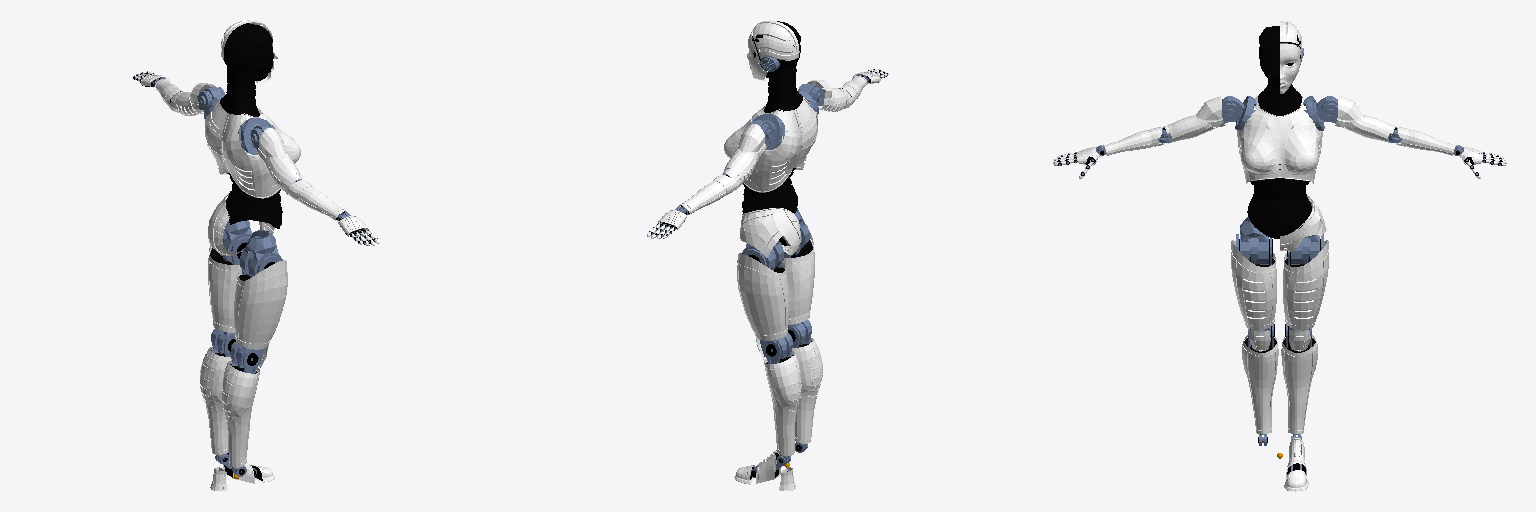
--- Facts derived from the render (not from the file) ---
3 views of the same robot in one strip: view 1: azimuth 30°, elevation 25°; view 2: azimuth 150°, elevation 25°; view 3: azimuth 270°, elevation 25° (orthographic).
Model humanMeshed with 89 links and 88 joints (88 continuous), rooted at base_link, posed every joint at zero.
Visible links, largest first — view 1: right_thigh_yaw, chest_yaw, right_knee_yaw, hip_yaw, head_yaw, left_thigh_yaw, left_knee_yaw, right_shoulder_yaw, lower_spine_yaw, neck_yaw, right_elbow_yaw, left_shoulder_yaw (+3 smaller); view 2: left_thigh_yaw, chest_yaw, left_knee_yaw, hip_yaw, head_yaw, right_knee_yaw, right_thigh_yaw, left_shoulder_yaw, neck_yaw, left_foot_yaw, lower_spine_yaw, left_elbow_yaw (+3 smaller); view 3: chest_yaw, right_thigh_yaw, left_thigh_yaw, lower_spine_yaw, right_knee_yaw, left_knee_yaw, head_yaw, hip_yaw, left_shoulder_yaw, right_shoulder_yaw, neck_yaw, left_foot_yaw (+6 smaller).
Boxes of the visible links, box(x1,y1,x2,y2) form: right_thigh_yaw: box(230, 251, 287, 367); chest_yaw: box(205, 101, 300, 198); right_knee_yaw: box(222, 342, 268, 476); hip_yaw: box(208, 193, 282, 276); head_yaw: box(221, 20, 277, 82); left_thigh_yaw: box(208, 234, 249, 353); left_knee_yaw: box(200, 328, 234, 463); right_shoulder_yaw: box(251, 125, 301, 196); lower_spine_yaw: box(226, 173, 282, 228); neck_yaw: box(220, 66, 259, 116); right_elbow_yaw: box(288, 179, 349, 221); left_shoulder_yaw: box(170, 83, 224, 115); left_thigh_yaw: box(737, 245, 792, 358); chest_yaw: box(724, 97, 817, 192); left_knee_yaw: box(756, 333, 801, 465); hip_yaw: box(740, 208, 809, 269); head_yaw: box(747, 20, 800, 80); right_knee_yaw: box(788, 320, 822, 452); right_thigh_yaw: box(782, 226, 814, 344); left_shoulder_yaw: box(722, 121, 772, 190); neck_yaw: box(764, 63, 802, 112); left_foot_yaw: box(734, 450, 795, 491); lower_spine_yaw: box(742, 168, 797, 213); left_elbow_yaw: box(676, 173, 736, 215); chest_yaw: box(1237, 95, 1322, 183); right_thigh_yaw: box(1231, 234, 1276, 342); left_thigh_yaw: box(1283, 234, 1328, 342); lower_spine_yaw: box(1247, 164, 1311, 238); right_knee_yaw: box(1242, 324, 1278, 445); left_knee_yaw: box(1281, 324, 1317, 438); head_yaw: box(1259, 21, 1303, 93); hip_yaw: box(1239, 195, 1326, 264); left_shoulder_yaw: box(1321, 96, 1400, 143); right_shoulder_yaw: box(1159, 96, 1238, 143); neck_yaw: box(1258, 80, 1301, 115); left_foot_yaw: box(1284, 436, 1308, 491).
Bounding box of the posed robot: 0.2863 × 1.57 × 1.73 m (x, y, z).
18 mesh visuals loaded from 19 distinct referenced files (18 Collada DAE); not drawn: 1 (file found but could not be loaded).

robot.urdf — humanMeshed:
<?xml version="1.0"?>
<robot name="humanMeshed">

  <link name="base_link">
    <visual>
      <geometry>
        <sphere radius="0.01"/>
      </geometry>
    </visual>
  </link>

<!--   HIP starts here  -->
  <link name="hip_roll"/>

  <joint name="hip_roll" type="continuous">
    <parent link="base_link" />
    <child link="hip_roll" />
    <origin xyz="0.05 0 0.90"/>
    <axis xyz="1.0 0 0"/>
  </joint>

  <link name="hip_pitch">
    
  </link>

  <joint name="hip_pitch" type="continuous">
    <parent link="hip_roll"/>
    <child link="hip_pitch"/>
    <origin xyz="0 0 0"/>
    <axis xyz="0 1.0 0"/>
  </joint>

  <link name="hip_yaw">
        <visual>
      <geometry>  
        <mesh filename="package://online_tempo/models/humanMeshed/meshes/pelvis.dae" scale="0.06 0.06 0.06"/>
     </geometry>
      <origin rpy="0 0 1.57075" xyz="0 0 -0.96"/>   
    </visual>
  </link>

  <joint name="hip_yaw" type="continuous">
    <parent link="hip_pitch"/>
    <child link="hip_yaw"/>
    <origin xyz="0 0 0"/>
    <axis xyz="0 0 1.0"/>
  </joint>

 <!--           HIP ENDS HERE        -->
 <!--      RIGHT THIGH STARTS HERE    -->
 <joint name="right_thigh_roll" type="continuous">
    <parent link="hip_yaw"/>
    <child link="right_thigh_roll"/>
    <origin xyz="0 -0.0875 -0.0875"/>
    <axis xyz="1.0 0 0"/>
 </joint>

 <link name="right_thigh_roll"/>

 <joint name="right_thigh_pitch" type="continuous">
    <parent link="right_thigh_roll"/>
    <child link="right_thigh_pitch"/>
    <origin xyz="0 0 0"/>
    <axis xyz="0 1.0 0"/>
 </joint>

 <link name="right_thigh_pitch"/>

 <joint name="right_thigh_yaw" type="continuous">
    <parent link="right_thigh_pitch"/>
    <child link="right_thigh_yaw"/>
    <origin xyz="0 0 0"/>
    <axis xyz="0 0 1.0"/>
 </joint>

<link name="right_thigh_yaw">
  <visual>
    <geometry>
      <mesh filename="package://online_tempo/models/humanMeshed/meshes/rightThigh.dae" scale="0.06 0.06 0.06"/>
    </geometry>      
    <origin rpy="0 0 1.57075" xyz="0 0.0875 -0.8725"/>  
  </visual>
</link>
<!--       RIGHT THIGH ENDS HERE       -->
<!--       RIGHT KNEE STARTS HERE      -->
<joint name="right_knee_roll" type="continuous">
  <parent link="right_thigh_yaw"/>
  <child link="right_knee_roll"/>
  <origin xyz="-0.05 0.02 -0.3375"/>
  <axis xyz="1.0 0 0"/>
</joint>

<link name="right_knee_roll"/>

<joint name="right_knee_pitch" type="continuous">
  <parent link="right_knee_roll"/>
  <child link="right_knee_pitch"/>
  <origin xyz="0 0 0"/>
  <axis xyz="0 1.0 0"/>
</joint>

<link name="right_knee_pitch"/>

<joint name="right_knee_yaw" type="continuous">
  <parent link="right_knee_pitch"/>
  <child link="right_knee_yaw"/>
  <origin xyz="0 0 0"/>
  <axis xyz="0 0 1.0"/>
</joint>

<link name="right_knee_yaw">
  <visual>
    <geometry>
      <mesh filename="package://online_tempo/models/humanMeshed/meshes/rightShin.dae" scale="0.06 0.06 0.06"/>
    </geometry>      
    <origin rpy="0 0 1.57075" xyz="0.05 0.0675 -0.53"/>    
  </visual>
</link>
<!--         RIGHT KNEE ENDS HERE   -->
<!--         RIGHT FOOT STARTS HERE -->
<joint name="right_foot_roll" type="continuous">
  <parent link="right_knee_yaw"/>
  <child link="right_foot_roll"/>
  <origin xyz="-0.0225 0.0125 -0.425"/>
  <axis xyz="1.0 0 0"/>
</joint> 

<link name="right_foot_roll"/>

<joint name="right_foot_pitch" type="continuous">
  <parent link="right_foot_roll"/>
  <child link="right_foot_pitch"/>
  <origin xyz="0 0 0"/>
  <axis xyz="0 1.0 0"/>
</joint> 

<link name="right_foot_pitch"/>

<joint name="right_foot_yaw" type="continuous">
  <parent link="right_foot_pitch"/>
  <child link="right_foot_yaw"/>
  <origin xyz="0 0 0"/>
  <axis xyz="0 0 1.0"/>
</joint> 

<link name="right_foot_yaw">
  <visual>
    <geometry>
      <mesh filename="package://online_tempo/models/humanMeshed/meshes/rightFoot.dae" scale="0.06 0.06 0.06"/>
    </geometry>
    <origin rpy="0 0 1.57075" xyz="0.07375 0.055 -0.1075"/>    
   </visual>
 </link>

<!--   RIGHT FOOT ENDS HERE   -->
<joint name="right_toe_roll" type="continuous">
  <parent link="right_foot_yaw"/>
  <child link="right_toe_roll"/>
  <origin xyz="0.11 -0.0025 -0.07"/>
  <axis xyz="1.0 0 0"/>
</joint>

<link name="right_toe_roll"/>

<joint name="right_toe_pitch" type="continuous">
  <parent link="right_toe_roll"/>
  <child link="right_toe_pitch"/>
  <origin xyz="0 0 0"/>
  <axis xyz="0 1.0 0"/>
</joint>

<link name="right_toe_pitch"/>

<joint name="right_toe_yaw" type="continuous">
  <parent link="right_toe_pitch"/>
  <child link="right_toe_yaw"/>
  <origin xyz="0 0 0"/>
  <axis xyz="0 0 1.0"/>
</joint>

<link name="right_toe_yaw"/>


<!--   LEFT THIGH STARTS HERE -->
 <joint name="left_thigh_roll" type="continuous">
    <parent link="hip_yaw"/>
    <child link="left_thigh_roll"/>
    <origin xyz="0 0.0875 -0.0875"/>
    <axis xyz="1.0 0 0"/>
 </joint>

 <link name="left_thigh_roll"/>

 <joint name="left_thigh_pitch" type="continuous">
    <parent link="left_thigh_roll"/>
    <child link="left_thigh_pitch"/>
    <origin xyz="0 0 0"/>
    <axis xyz="0 1.0 0"/>
 </joint>

 <link name="left_thigh_pitch"/>

 <joint name="left_thigh_yaw" type="continuous">
    <parent link="left_thigh_pitch"/>
    <child link="left_thigh_yaw"/>
    <origin xyz="0 0 0"/>
    <axis xyz="0 0 1.0"/>
 </joint>

<link name="left_thigh_yaw">
  <visual>
    <geometry>
      <mesh filename="package://online_tempo/models/humanMeshed/meshes/leftThigh.dae" scale="0.06 0.06 0.06"/>
    </geometry>      
    <origin rpy="0 0 1.57075" xyz="0 -0.0875 -0.8725"/>    
  </visual>
</link>
<!--     LEFT THIGH ENDS HERE -->
<!--       LEFT KNEE STARTS HERE      -->
<joint name="left_knee_roll" type="continuous">
  <parent link="left_thigh_yaw"/>
  <child link="left_knee_roll"/>
  <origin xyz="-0.05 -0.02 -0.3375"/>
  <axis xyz="1.0 0 0"/>
</joint>

<link name="left_knee_roll"/>

<joint name="left_knee_pitch" type="continuous">
  <parent link="left_knee_roll"/>
  <child link="left_knee_pitch"/>
  <origin xyz="0 0 0"/>
  <axis xyz="0 1.0 0"/>
</joint>

<link name="left_knee_pitch"/>

<joint name="left_knee_yaw" type="continuous">
  <parent link="left_knee_pitch"/>
  <child link="left_knee_yaw"/>
  <origin xyz="0 0 0"/>
  <axis xyz="0 0 1.0"/>
</joint>

<link name="left_knee_yaw">
  <visual>
    <geometry>
      <mesh filename="package://online_tempo/models/humanMeshed/meshes/leftShin.dae" scale="0.06 0.06 0.06"/>
    </geometry>      
    <origin rpy="0 0 1.57075" xyz="0.05 -0.0675 -0.53"/>   
  </visual>
</link>
<!--         left KNEE ENDS HERE   -->
<!--         left FOOT STARTS HERE -->
<joint name="left_foot_roll" type="continuous">
  <parent link="left_knee_yaw"/>
  <child link="left_foot_roll"/>
  <origin xyz="-0.0225 -0.0125 -0.425"/>
  <axis xyz="1.0 0 0"/>
</joint> 

<link name="left_foot_roll"/>

<joint name="left_foot_pitch" type="continuous">
  <parent link="left_foot_roll"/>
  <child link="left_foot_pitch"/>
  <origin xyz="0 0 0"/>
  <axis xyz="0 1.0 0"/>
</joint> 

<link name="left_foot_pitch"/>

<joint name="left_foot_yaw" type="continuous">
  <parent link="left_foot_pitch"/>
  <child link="left_foot_yaw"/>
  <origin xyz="0 0 0"/>
  <axis xyz="0 0 1.0"/>
</joint> 

<link name="left_foot_yaw">
  <visual>
    <geometry>
      <mesh filename="package://online_tempo/models/humanMeshed/meshes/leftFoot.dae" scale="0.06 0.06 0.06"/>
    </geometry>
    <origin rpy="0 0 1.57075" xyz="0.07375 -0.055 -0.1075"/>    
   </visual>
</link>
<!--   left FOOT ENDS HERE   -->

<joint name="left_toe_roll" type="continuous">
  <parent link="left_foot_yaw"/>
  <child link="left_toe_roll"/>
  <origin xyz="0.11 0.0025 -0.07"/>
  <axis xyz="1.0 0 0"/>
</joint>

<link name="left_toe_roll"/>

<joint name="left_toe_pitch" type="continuous">
  <parent link="left_toe_roll"/>
  <child link="left_toe_pitch"/>
  <origin xyz="0 0 0"/>
  <axis xyz="0 1.0 0"/>
</joint>

<link name="left_toe_pitch"/>

<joint name="left_toe_yaw" type="continuous">
  <parent link="left_toe_pitch"/>
  <child link="left_toe_yaw"/>
  <origin xyz="0 0 0"/>
  <axis xyz="0 0 1.0"/>
</joint>

<link name="left_toe_yaw"/>



<!--   lower_spine STARTS HERE   -->
<joint name="lower_spine_roll" type="continuous">
  <parent link="hip_yaw"/>
  <child link="lower_spine_roll"/>
  <origin xyz="0 0 0.025"/>
  <axis xyz="1.0 0 0"/>
</joint>

<link name="lower_spine_roll"/>

<joint name="lower_spine_pitch" type="continuous">
  <parent link="lower_spine_roll"/>
  <child link="lower_spine_pitch"/>
  <origin xyz="0 0 0"/>
  <axis xyz="0 1.0 0"/>
</joint>

<link name="lower_spine_pitch"/>

<joint name="lower_spine_yaw" type="continuous">
  <parent link="lower_spine_pitch"/>
  <child link="lower_spine_yaw"/>
  <origin xyz="0 0 0"/>
  <axis xyz="0 0 1.0"/>
</joint>


<link name="lower_spine_yaw">
  <visual>
    <geometry>
              <mesh filename="package://online_tempo/models/humanMeshed/meshes/abdomen.dae" scale="0.06 0.06 0.06"/>
    </geometry>
    <origin rpy="0 0 1.57075" xyz="-0.005 0 -1"/>    
  </visual>
</link>

<!--  lower_spine ENDS HERE     -->
<!--  middle_spine Starts here  -->
<joint name="middle_spine_roll" type="continuous">
  <parent link="lower_spine_yaw"/>
  <child link="middle_spine_roll"/>
  <origin xyz="0 0 0.08"/>
  <axis xyz="1.0 0 0"/>
</joint>

<link name="middle_spine_roll"/>

<joint name="middle_spine_pitch" type="continuous">
  <parent link="middle_spine_roll"/>
  <child link="middle_spine_pitch"/>
  <origin xyz="0 0 0"/>
  <axis xyz="0 1.0 0"/>
</joint>

<link name="middle_spine_pitch"/>

<joint name="middle_spine_yaw" type="continuous">
  <parent link="middle_spine_pitch"/>
  <child link="middle_spine_yaw"/>
  <origin xyz="0 0 0"/>
  <axis xyz="0 0 1.0"/>
</joint>

<link name="middle_spine_yaw">
  <!--
  <visual>
    <geometry>
        <box size="0.10 0.25 0.08"/>
    </geometry>
    <origin rpy="0 0 0" xyz="0 0 0.04"/>    
  </visual>
-->
</link>

<!--  middle_spine Ends here    -->
<!--  CHEST STARTS HERE     -->
<joint name="chest_roll" type="continuous">
  <parent link="middle_spine_yaw"/>
  <child link="chest_roll"/>
  <origin xyz="0 0 0.08"/>
  <axis xyz="1.0 0 0"/>
</joint>

<link name="chest_roll"/>

<joint name="chest_pitch" type="continuous">
  <parent link="chest_roll"/>
  <child link="chest_pitch"/>
  <origin xyz="0 0 0"/>
  <axis xyz="0 1.0 0"/>
</joint>

<link name="chest_pitch"/>

<joint name="chest_yaw" type="continuous">
  <parent link="chest_pitch"/>
  <child link="chest_yaw"/>
  <origin xyz="0 0 0"/>
  <axis xyz="0 0 1.0"/>
</joint>

<link name="chest_yaw">
  <visual>
    <geometry>
      <mesh filename="package://online_tempo/models/humanMeshed/meshes/chest.dae" scale="0.06 0.06 0.06"/>
    </geometry>
    <origin rpy="0 0 1.57075" xyz="0 0 -1.2"/>    
  </visual>
</link>
<!--     Chest ends here            -->
<!--     left clavicle starts here  -->
<joint name="left_clavicle_roll" type="continuous">
  <parent link="chest_yaw"/>
  <child link="left_clavicle_roll"/>
  <origin xyz="-0.04 0.0125 0.22"/>
  <axis xyz="1.0 0 0"/>
</joint>

<link name="left_clavicle_roll"/>

<joint name="left_clavicle_pitch" type="continuous">
  <parent link="left_clavicle_roll"/>
  <child link="left_clavicle_pitch"/>
  <origin xyz="0 0 0"/>
  <axis xyz="0 1.0 0"/>
</joint>

<link name="left_clavicle_pitch"/>

<joint name="left_clavicle_yaw" type="continuous">
  <parent link="left_clavicle_pitch"/>
  <child link="left_clavicle_yaw"/>
  <origin xyz="0 0 0"/>
  <axis xyz="0 0 1.0"/>
</joint>

<link name="left_clavicle_yaw">
  <visual>
    <geometry>
    <mesh filename="package://online_tempo/models/humanMeshed/meshes/leftClavicle.dae" scale="0.06 0.06 0.06"/>
    </geometry>
    <origin rpy="0 0 1.57075" xyz="0.04 0 -1.4"/>
  </visual>
</link>
<!-- left clavicle ends here   -->
<!-- left shoulder starts here -->
<joint name="left_shoulder_roll" type="continuous">
  <parent link="left_clavicle_yaw"/>
  <child link="left_shoulder_roll"/>
  <origin xyz="0 0.16 0.0225"/>
  <axis xyz="1.0 0 0"/>
</joint>

<link name="left_shoulder_roll"/>

<joint name="left_shoulder_pitch" type="continuous">
  <parent link="left_shoulder_roll"/>
  <child link="left_shoulder_pitch"/>
  <origin xyz="0 0 0"/>
  <axis xyz="0 1.0 0"/>
</joint>

<link name="left_shoulder_pitch"/>

<joint name="left_shoulder_yaw" type="continuous">
  <parent link="left_shoulder_pitch"/>
  <child link="left_shoulder_yaw"/>
  <origin xyz="0 0 0"/>
  <axis xyz="0 0 1.0"/>
</joint>

<link name="left_shoulder_yaw">
  <visual>
    <geometry>
      <mesh filename="package://online_tempo/models/humanMeshed/meshes/leftBicep.dae" scale="0.06 0.06 0.06"/> 
    </geometry>
    <origin rpy="0 0 1.57075 " xyz="0.04 -0.16 -1.42" />
  </visual>
</link>
<!-- left shoulder ends here -->
<!-- left elbow starts here -->
<joint name="left_elbow_roll" type="continuous">
  <parent link="left_shoulder_yaw"/>
  <child link="left_elbow_roll"/>
  <origin xyz="0 0.23 -0.095"/>
  <axis xyz="1.0 0 0"/>
</joint>

<link name="left_elbow_roll"/>

<joint name="left_elbow_pitch" type="continuous">
  <parent link="left_elbow_roll"/>
  <child link="left_elbow_pitch"/>
  <origin xyz="0 0 0"/>
  <axis xyz="0 1.0 0"/>
</joint>

<link name="left_elbow_pitch"/>

<joint name="left_elbow_yaw" type="continuous">
  <parent link="left_elbow_pitch"/>
  <child link="left_elbow_yaw"/>
  <origin xyz="0 0 0"/>
  <axis xyz="0 0 1.0"/>
</joint>

<link name="left_elbow_yaw">
  <visual>
    <geometry>
      <mesh filename="package://online_tempo/models/humanMeshed/meshes/leftForearm.dae" scale="0.06 0.06 0.06"/> 
    </geometry>
    <origin rpy="0 0 1.57075 " xyz="0.04 -0.4 -1.322" />
  </visual>
</link>
<!-- left elbow ends here   -->
<!-- left hand starts here  -->
<joint name="left_hand_roll" type="continuous">
  <parent link="left_elbow_yaw"/>
  <child link="left_hand_roll"/>
  <origin xyz="0.046 0.211 -0.04"/>
  <axis xyz="1.0 0 0"/>
</joint>

<link name="left_hand_roll"/>

<joint name="left_hand_pitch" type="continuous">
  <parent link="left_hand_roll"/>
  <child link="left_hand_pitch"/>
  <origin xyz="0 0 0"/>
  <axis xyz="0 1.0 0"/>
</joint>

<link name="left_hand_pitch"/>

<joint name="left_hand_yaw" type="continuous">
  <parent link="left_hand_pitch"/>
  <child link="left_hand_yaw"/>
  <origin xyz="0 0 0"/>
  <axis xyz="0 0 1.0"/>
</joint>

<link name="left_hand_yaw">
  <visual>
    <geometry>
      <mesh filename="package://online_tempo/models/humanMeshed/meshes/leftHand.dae" scale="0.06 0.06 0.06"/> 
    </geometry>
    <origin rpy="0 0 1.57075 " xyz="-0.0075 -0.61 -1.28" />
  </visual>
</link>
<!-- left hand ends here    -->

<joint name="right_clavicle_roll" type="continuous">
  <parent link="chest_yaw"/>
  <child link="right_clavicle_roll"/>
  <origin xyz="-0.04 -0.0125 0.22"/>
  <axis xyz="1.0 0 0"/>
</joint>

<link name="right_clavicle_roll"/>

<joint name="right_clavicle_pitch" type="continuous">
  <parent link="right_clavicle_roll"/>
  <child link="right_clavicle_pitch"/>
  <origin xyz="0 0 0"/>
  <axis xyz="0 1.0 0"/>
</joint>

<link name="right_clavicle_pitch"/>

<joint name="right_clavicle_yaw" type="continuous">
  <parent link="right_clavicle_pitch"/>
  <child link="right_clavicle_yaw"/>
  <origin xyz="0 0 0"/>
  <axis xyz="0 0 1.0"/>
</joint>

<link name="right_clavicle_yaw">
  <visual>
    <geometry>
    <mesh filename="package://online_tempo/models/humanMeshed/meshes/rightClavicle.dae" scale="0.06 0.06 0.06"/>
    </geometry>
    <origin rpy="0 0 1.57075" xyz="0.04 0 -1.4"/>
  </visual>
</link>
<!-- right clavicle ends here   -->
<!-- right shoulder starts here -->
<joint name="right_shoulder_roll" type="continuous">
  <parent link="right_clavicle_yaw"/>
  <child link="right_shoulder_roll"/>
  <origin xyz="0 -0.16 0.0225"/>
  <axis xyz="1.0 0 0"/>
</joint>

<link name="right_shoulder_roll"/>

<joint name="right_shoulder_pitch" type="continuous">
  <parent link="right_shoulder_roll"/>
  <child link="right_shoulder_pitch"/>
  <origin xyz="0 0 0"/>
  <axis xyz="0 1.0 0"/>
</joint>

<link name="right_shoulder_pitch"/>

<joint name="right_shoulder_yaw" type="continuous">
  <parent link="right_shoulder_pitch"/>
  <child link="right_shoulder_yaw"/>
  <origin xyz="0 0 0"/>
  <axis xyz="0 0 1.0"/>
</joint>

<link name="right_shoulder_yaw">
  <visual>
    <geometry>
      <mesh filename="package://online_tempo/models/humanMeshed/meshes/rightBicep.dae" scale="0.06 0.06 0.06"/> 
    </geometry>
    <origin rpy="0 0 1.57075 " xyz="0.04 0.16 -1.42" />
  </visual>
</link>
<!-- right shoulder ends here -->
<!-- right elbow starts here -->
<joint name="right_elbow_roll" type="continuous">
  <parent link="right_shoulder_yaw"/>
  <child link="right_elbow_roll"/>
  <origin xyz="0 -0.23 -0.095"/>
  <axis xyz="1.0 0 0"/>
</joint>

<link name="right_elbow_roll"/>

<joint name="right_elbow_pitch" type="continuous">
  <parent link="right_elbow_roll"/>
  <child link="right_elbow_pitch"/>
  <origin xyz="0 0 0"/>
  <axis xyz="0 1.0 0"/>
</joint>

<link name="right_elbow_pitch"/>

<joint name="right_elbow_yaw" type="continuous">
  <parent link="right_elbow_pitch"/>
  <child link="right_elbow_yaw"/>
  <origin xyz="0 0 0"/>
  <axis xyz="0 0 1.0"/>
</joint>

<link name="right_elbow_yaw">
  <visual>
    <geometry>
      <mesh filename="package://online_tempo/models/humanMeshed/meshes/rightForearm.dae" scale="0.06 0.06 0.06"/> 
    </geometry>
    <origin rpy="0 0 1.57075 " xyz="0.04 0.4 -1.322" />
  </visual>
</link>
<!-- right elbow ends here   -->
<!-- right hand starts here  -->
<joint name="right_hand_roll" type="continuous">
  <parent link="right_elbow_yaw"/>
  <child link="right_hand_roll"/>
  <origin xyz="0.046 -0.211 -0.04"/>
  <axis xyz="1.0 0 0"/>
</joint>

<link name="right_hand_roll"/>

<joint name="right_hand_pitch" type="continuous">
  <parent link="right_hand_roll"/>
  <child link="right_hand_pitch"/>
  <origin xyz="0 0 0"/>
  <axis xyz="0 1.0 0"/>
</joint>

<link name="right_hand_pitch"/>

<joint name="right_hand_yaw" type="continuous">
  <parent link="right_hand_pitch"/>
  <child link="right_hand_yaw"/>
  <origin xyz="0 0 0"/>
  <axis xyz="0 0 1.0"/>
</joint>

<link name="right_hand_yaw">
  <visual>
    <geometry>
      <mesh filename="package://online_tempo/models/humanMeshed/meshes/rightHand.dae" scale="0.06 0.06 0.06"/> 
    </geometry>
    <origin rpy="0 0 1.57075 " xyz="-0.0075 0.61 -1.28" />
  </visual>
</link>
<!-- right hand ends here    -->

<!-- neck starts here   -->
<joint name="neck_roll" type="continuous">
  <parent link="chest_yaw"/>
  <child link="neck_roll"/>
  <origin xyz="0 0 0.25"/>
  <axis xyz="1.0 0 0"/>
</joint>

<link name="neck_roll"/>

<joint name="neck_pitch" type="continuous">
  <parent link="neck_roll"/>
  <child link="neck_pitch"/>
  <origin xyz="0 0 0"/>
  <axis xyz="0 1.0 0"/>
</joint>

<link name="neck_pitch"/>

<joint name="neck_yaw" type="continuous">
  <parent link="neck_pitch"/>
  <child link="neck_yaw"/>
  <origin xyz="0 0 0"/>
  <axis xyz="0 0 1.0"/>
</joint>

<link name="neck_yaw">
  <visual>
    <geometry>
      <mesh filename="package://online_tempo/models/humanMeshed/meshes/neck.dae" scale="0.06 0.06 0.06"/> 
    </geometry>
    <origin rpy="0 0 1.57075 " xyz="-0.0075 0 -1.45" />
  </visual>
</link>
<!-- neck ends here -->
<!-- head starts here -->
<joint name="head_roll" type="continuous">
  <parent link="neck_yaw"/>
  <child link="head_roll"/>
  <origin xyz="0 0 0.10"/>
  <axis xyz="1.0 0 0"/>
</joint>

<link name="head_roll"/>

<joint name="head_pitch" type="continuous">
  <parent link="head_roll"/>
  <child link="head_pitch"/>
  <origin xyz="0 0 0"/>
  <axis xyz="0 1.0 0"/>
</joint>

<link name="head_pitch"/>

<joint name="head_yaw" type="continuous">
  <parent link="head_pitch"/>
  <child link="head_yaw"/>
  <origin xyz="0 0 0"/>
  <axis xyz="0 0 1.0"/>
</joint>

<link name="head_yaw">
  <visual>
    <geometry>
      <mesh filename="package://online_tempo/models/humanMeshed/meshes/head.dae" scale="0.06 0.06 0.06"/> 
    </geometry>
    <origin rpy="0 0 1.57075 " xyz="-0.0075 0 -1.53" />
  </visual>
</link>
<!-- head ends here -->
<link name="hip">
    
  </link>

  <link name="lower_spine"/>
  <joint name="hip_to_lower_spine" type="continuous">
    <parent link="hip"/>
    <child link="lower_spine"/>
  </joint> 

  <link name="middle_spine"/>
  <joint name="lower_spine_to_middle_spine" type="continuous">
    <parent link="lower_spine"/>
    <child link="middle_spine"/>
  </joint> 

  <link name="chest"/>  
  <joint name="middle_spine_to_chest" type="continuous">
    <parent link="middle_spine"/>
    <child link="chest"/>
  </joint> 

  <link name="neck"/>  
  <joint name="chest_to_neck" type="continuous">
    <parent link="chest"/>
    <child link="neck"/>
  </joint> 

 <link name="head"/>  
  <joint name="neck_to_head" type="continuous">
    <parent link="neck"/>
    <child link="head"/>
  </joint> 

 
<!-- -->
 <link name="left_clavicle"/>  
  <joint name="chest_to_left_clavicle" type="continuous">
    <parent link="chest"/>
    <child link="left_clavicle"/>
  </joint> 
  
 <link name="left_shoulder"/>  
  <joint name="left_clavicle_to_left_shoulder" type="continuous">
    <parent link="left_clavicle"/>
    <child link="left_shoulder"/>
  </joint> 
 
 <link name="left_forearm"/>  
  <joint name="left_shoulder_to_left_forearm" type="continuous">
    <parent link="left_shoulder"/>
    <child link="left_forearm"/>
  </joint>

 <link name="left_hand"/>  
  <joint name="left_forearm_to_left_hand" type="continuous">
    <parent link="left_forearm"/>
    <child link="left_hand"/>
  </joint>  
<!-- -->
 <link name="right_clavicle"/>  
  <joint name="chest_to_right_clavicle" type="continuous">
    <parent link="chest"/>
    <child link="right_clavicle"/>
  </joint> 
  
 <link name="right_shoulder"/>  
  <joint name="right_clavicle_to_right_shoulder" type="continuous">
    <parent link="right_clavicle"/>
    <child link="right_shoulder"/>
  </joint> 
 
 <link name="right_forearm"/>  
  <joint name="right_shoulder_to_right_forearm" type="continuous">
    <parent link="right_shoulder"/>
    <child link="right_forearm"/>
  </joint>

 <link name="right_hand"/>  
  <joint name="right_forearm_to_right_hand" type="continuous">
    <parent link="right_forearm"/>
    <child link="right_hand"/>
  </joint>

<!-- -->

<!-- start of right leg geometry-->
  <link name="right_tigh">
    
  </link>

  <link name="right_leg">
    
  </link>

  <link name="right_foot">
    
  </link>

 <link name="right_foot_toe"/> 


 <joint name="right_foot_to_right_foot_toe" type="continuous">
    <parent link="right_foot"/>
    <child link="right_foot_toe"/>
    <origin xyz="0 0 -0.45"/>
  </joint> 

 
  

<!-- end of right leg geometry -->
<!-- start of left leg geometry -->
  <link name="left_tigh">
   
  </link>

  <link name="left_leg">

  </link>

  <link name="left_foot">
    
  </link>

  <link name="left_foot_toe"/>

  <joint name="left_foot_to_left_foot_toe" type="continuous">
    <parent link="left_foot"/>
    <child link="left_foot_toe"/>
    <origin xyz="0 0 -0.45"/>
  </joint> 

  
  

  <!--link name="left_toe"/>
  <link name="left_toe_end"/-->
    
  
<!-- end of left leg geometry -->

<!-- start of abs -->


  <joint name="base_to_hip" type="continuous">
    <parent link="base_link" />
    <child link="hip" />
    <origin xyz="0 0 0.90"/>
  </joint>
  <!-- right leg joints -->
  
<joint name="hip_to_right_tigh" type="continuous">
  <parent link="hip"/>
    <child link="right_tigh"/>
    <origin xyz="0 -0.1 0"/>
  </joint>





  <joint name="right_tigh_to_right_leg" type="continuous">
    <parent link="right_tigh" />
    <child link="right_leg"/>
    <origin xyz="0 0 -0.45"/>
   </joint>   

  <joint name="right_leg_to_foot" type="continuous">
    <parent link="right_leg"/>
    <child link="right_foot"/>
    <origin xyz="0 0 -0.45"/>
  </joint> 



  <!-- left leg joints -->
   <joint name="hip_to_left_tigh" type="continuous">
    <parent link="hip"/>
    <child link="left_tigh"/>
    <origin xyz="0 0.1 0"/>
  </joint>

  <joint name="left_tigh_to_left_leg" type="continuous">
    <parent link="left_tigh" />
    <child link="left_leg"/>
    <origin xyz="0 0 -0.45"/>
   </joint>   

  <joint name="left_leg_to_foot" type="continuous">
    <parent link="left_leg"/>
    <child link="left_foot"/>
    <origin xyz="0 0 -0.45"/>
  </joint> 


</robot>
